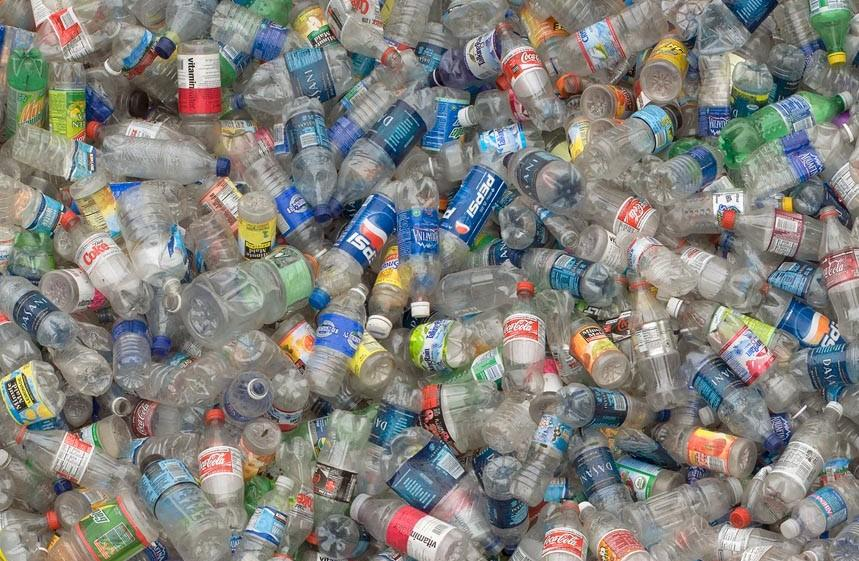plastic: (99, 170, 212, 299), (303, 184, 394, 305), (273, 96, 350, 226), (384, 170, 447, 320), (123, 449, 220, 545), (163, 29, 241, 147), (94, 130, 236, 189), (288, 288, 359, 393), (98, 309, 168, 389)
